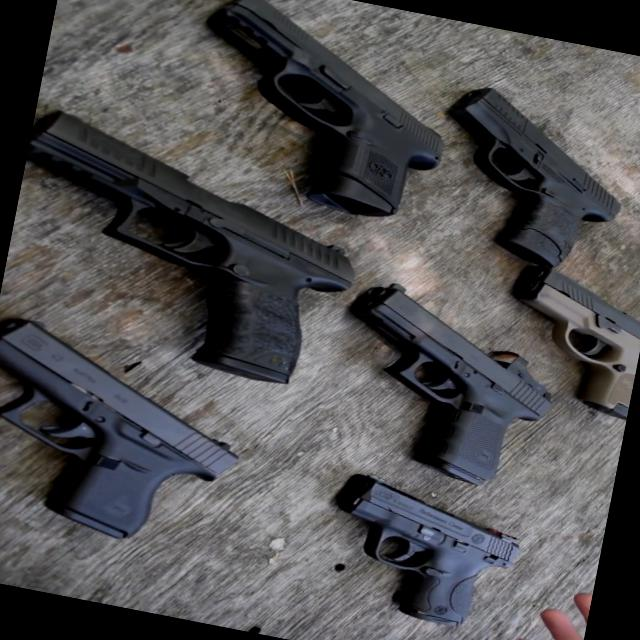handgun: (0, 101, 358, 407), (152, 0, 470, 235), (0, 305, 254, 575), (324, 267, 546, 503), (401, 78, 639, 284), (295, 452, 523, 639), (486, 256, 639, 429)
